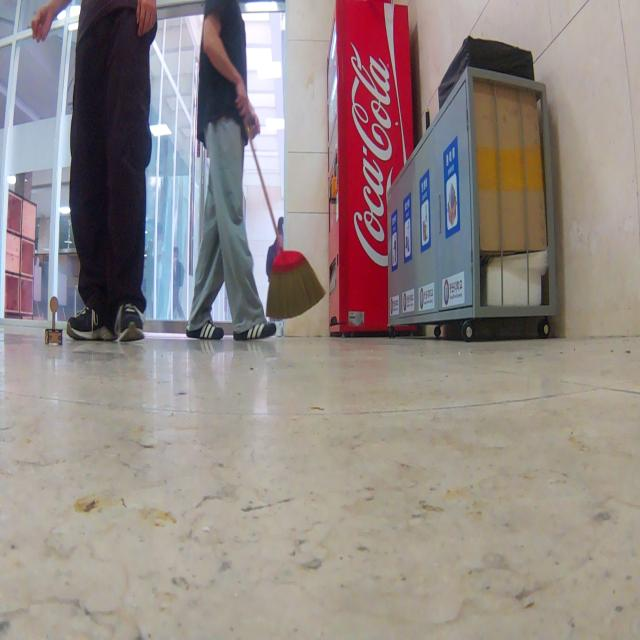target: (45, 296, 63, 346)
